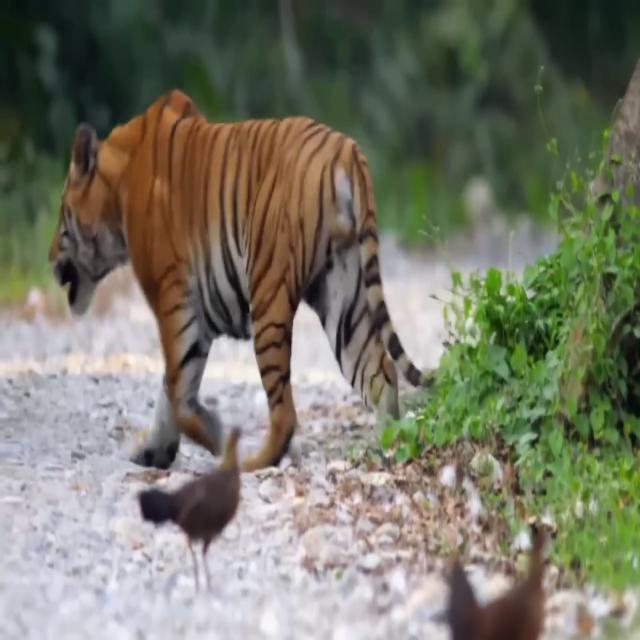tiger: (47, 85, 437, 473)
